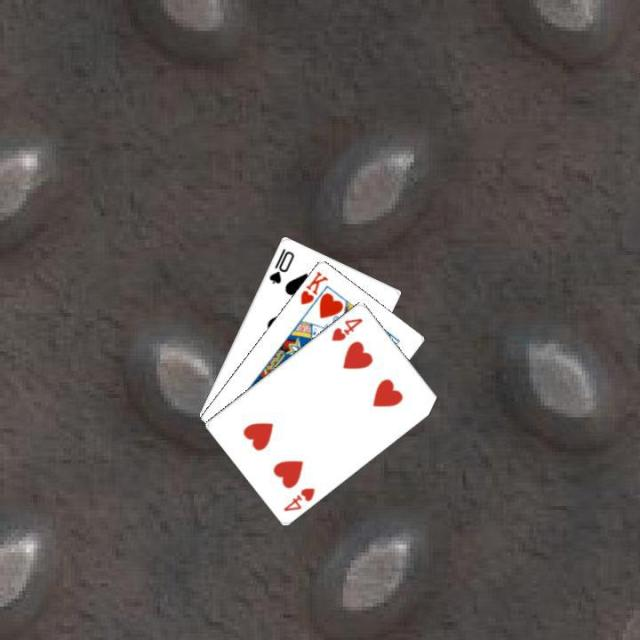10S: (265, 243, 296, 286)
4H: (279, 483, 317, 513), (327, 314, 365, 343)
KH: (296, 266, 330, 306)
